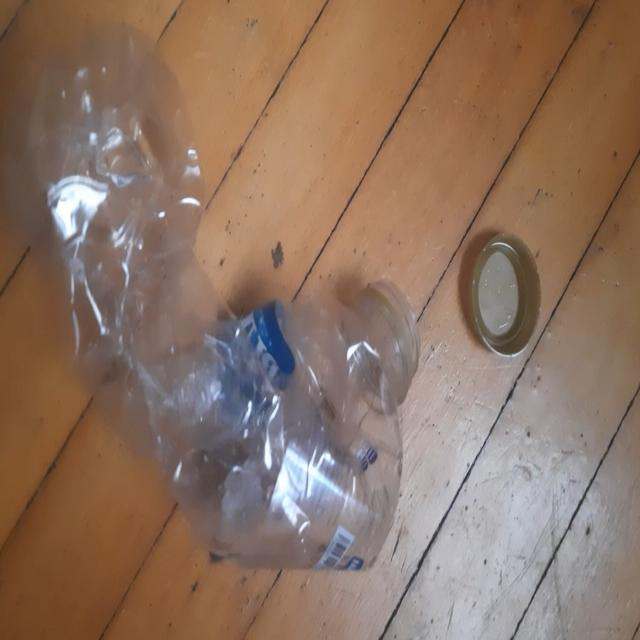Plastic: (26, 29, 412, 572)
